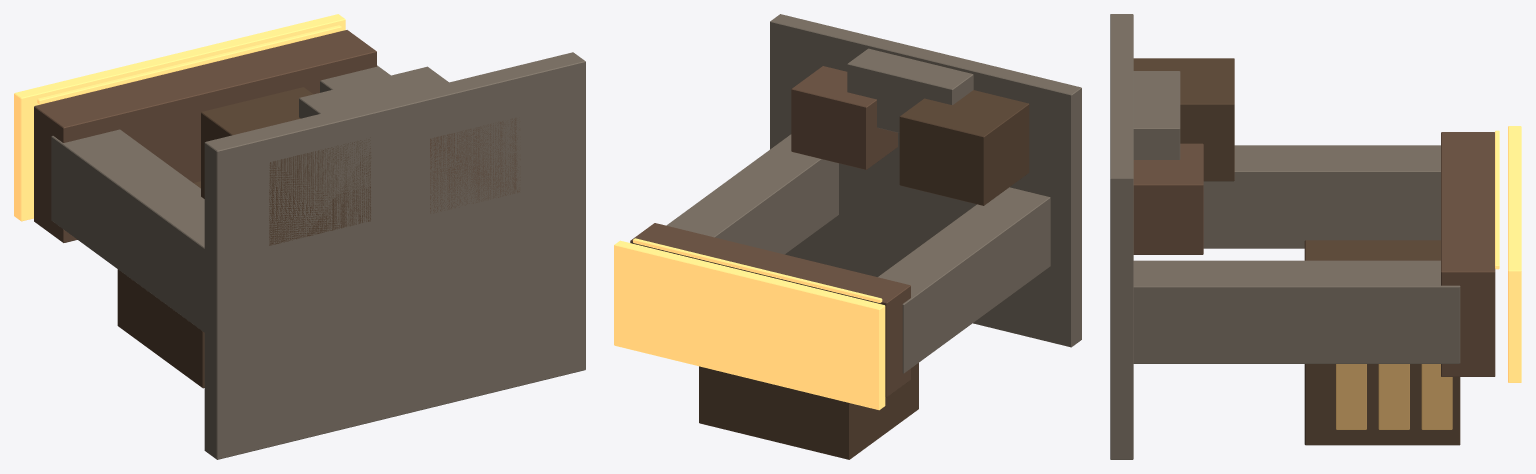
The model's file is mass_gantry_block_canyon_l.glb.
3 renders of one model, left to right at view 1: azimuth 30°, elevation 25°; view 2: azimuth 150°, elevation 25°; view 3: azimuth 270°, elevation 25°, orthographic. The views are drawn at different scales.
Parts seen in each view (by area): view 1: FlightKit_MassGantry_canyon_L; view 2: FlightKit_MassGantry_canyon_L; view 3: FlightKit_MassGantry_canyon_L.
Boxes of the visible parts, x1,y1,x2,y2 form: FlightKit_MassGantry_canyon_L: [14, 14, 585, 459]; FlightKit_MassGantry_canyon_L: [614, 14, 1081, 459]; FlightKit_MassGantry_canyon_L: [1110, 14, 1521, 459].
Size of the model in its own units: 10 by 8.75 by 10.57.
